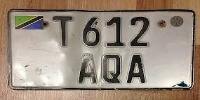T: (50, 14, 75, 49)
